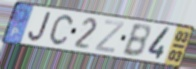2: (72, 17, 99, 51)
4: (145, 26, 172, 62)
B: (121, 23, 152, 59)
C: (48, 14, 74, 47)
J: (28, 12, 53, 43)
Z: (93, 19, 126, 55)
